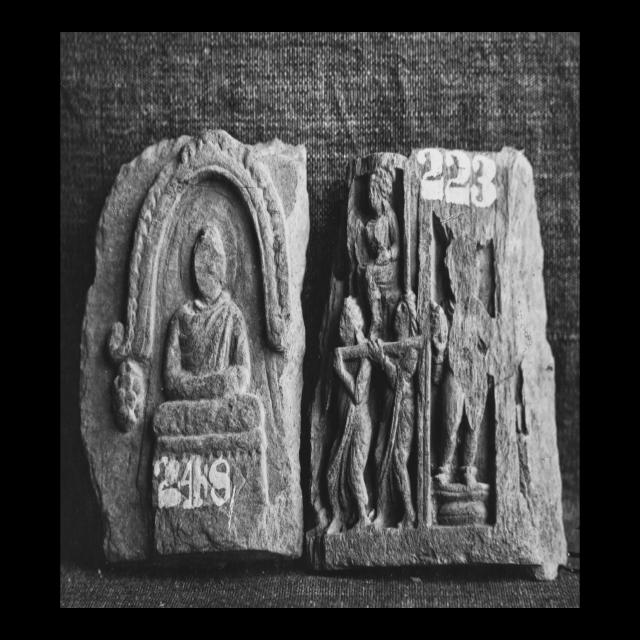buddha-sitting: (125, 181, 279, 537)
